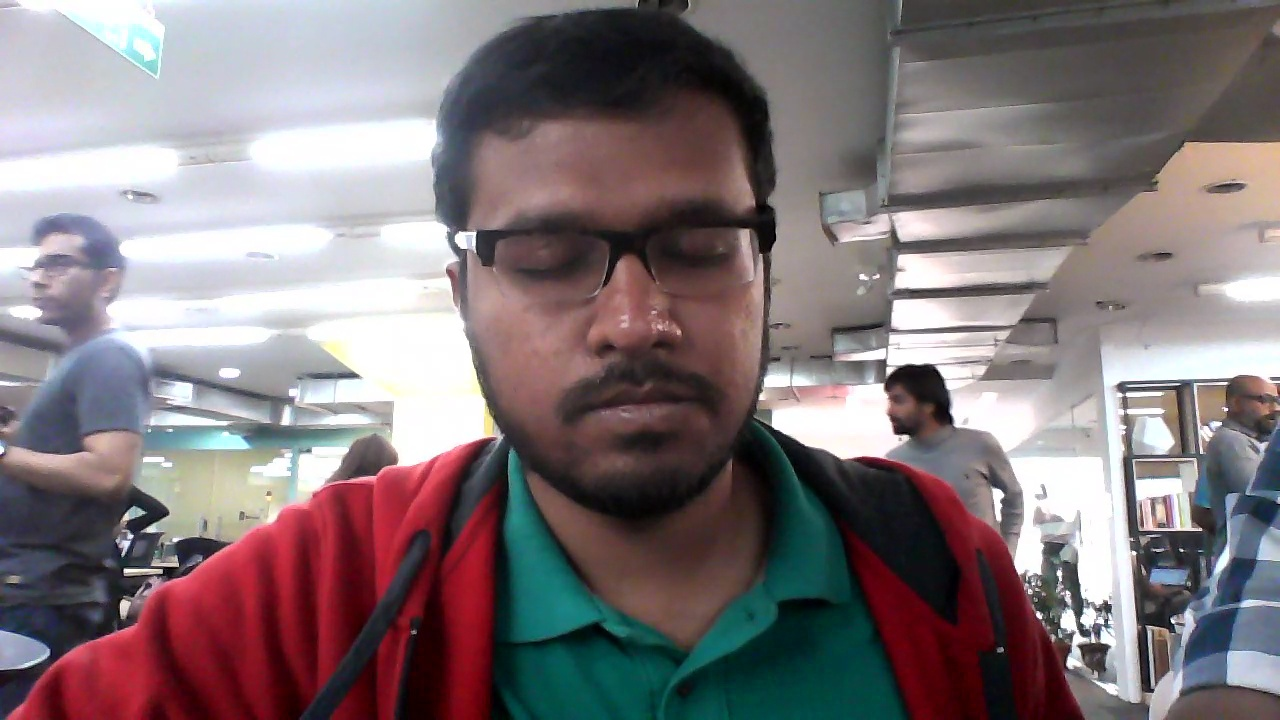closed: (418, 8, 791, 545)
